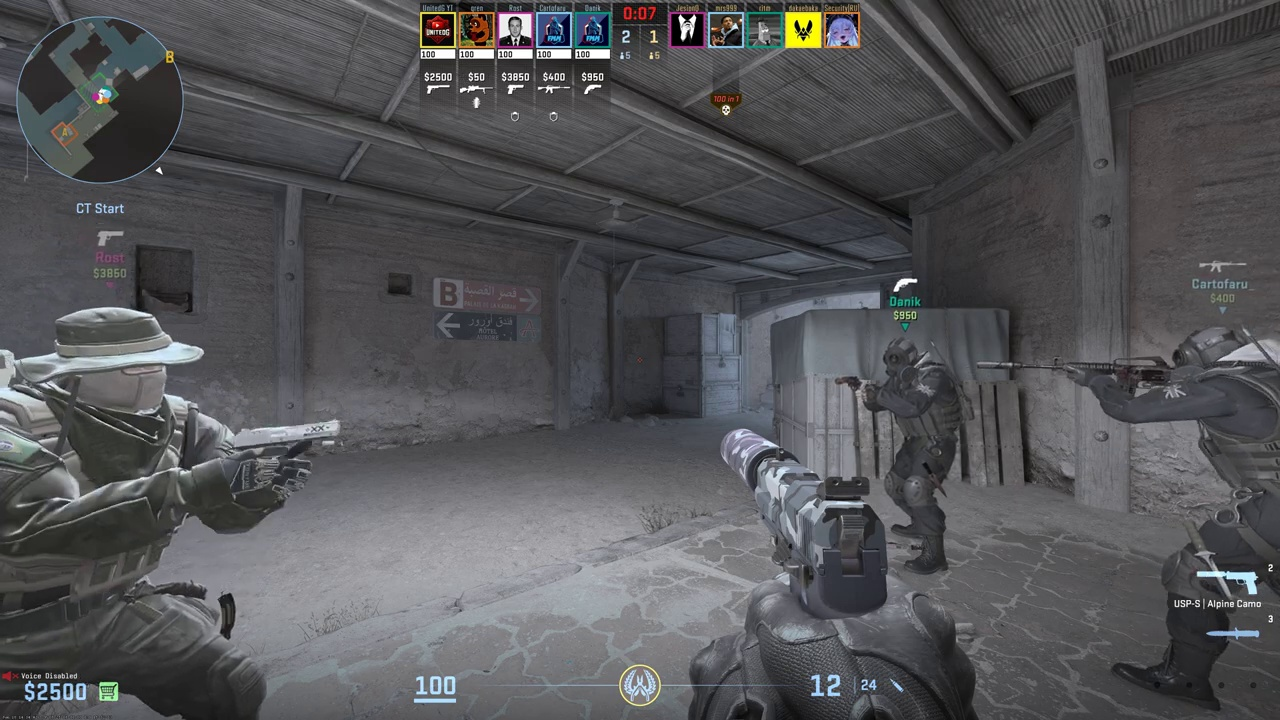CT: (2, 306, 266, 714), (1130, 322, 1280, 709), (868, 338, 963, 576)
